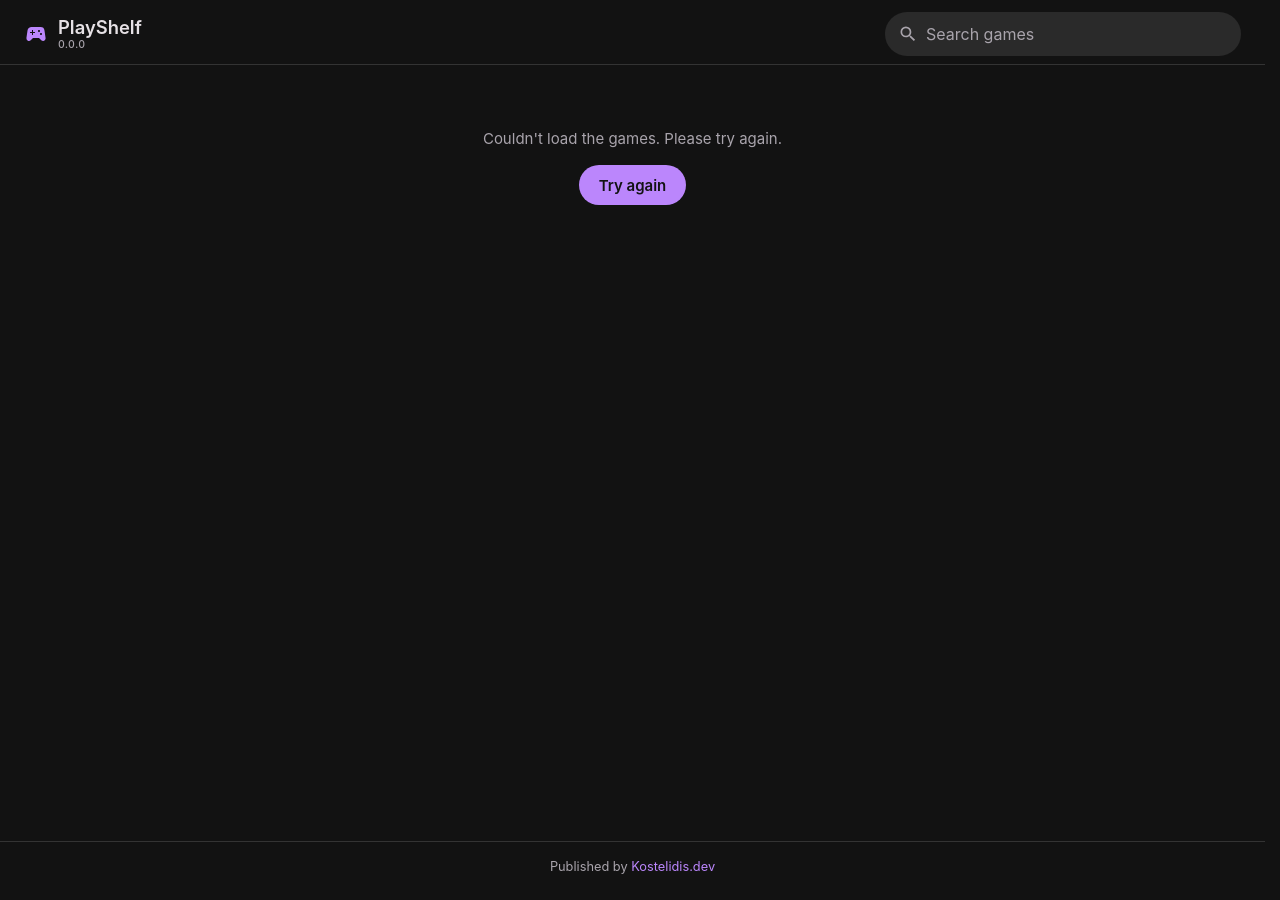
App: home view › shows an error with a retry button when loading fails
Expected: the text "Couldn't load the games. Please try again." is shown, [483,129,782,148]
Click the button "Try again" at x=632, y=185, box [579,165,686,205]
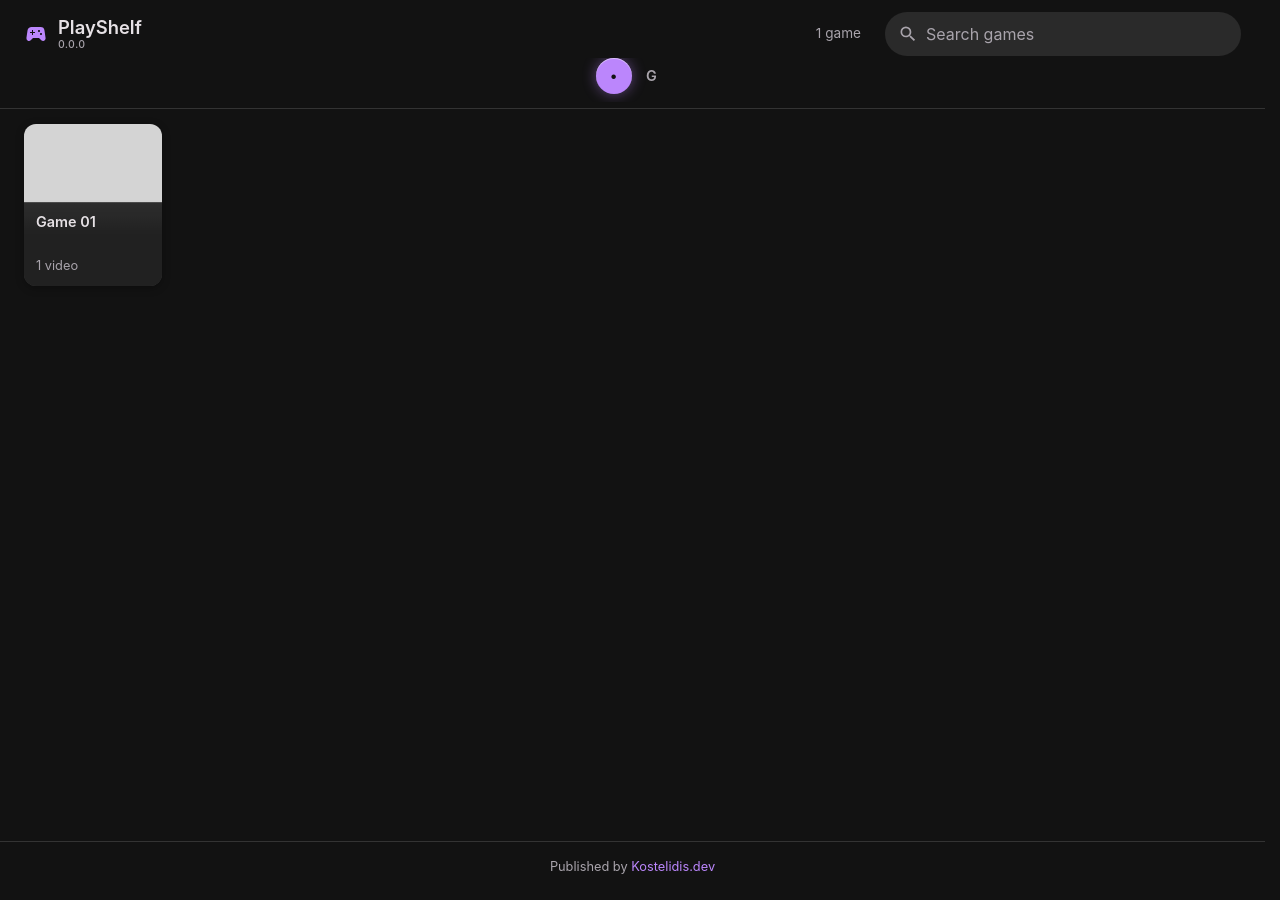
Now the text "Game 01" is shown, box [36,213,96,230]
